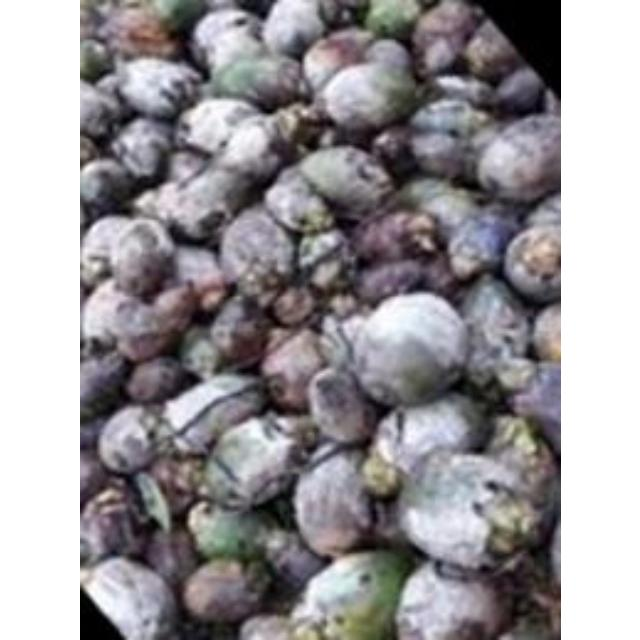damaged: (398, 448, 540, 570), (343, 290, 467, 408), (294, 546, 414, 640), (197, 415, 306, 511), (368, 394, 486, 480), (289, 446, 379, 556), (394, 560, 506, 640), (158, 374, 262, 456), (154, 162, 256, 242), (80, 557, 178, 639), (292, 144, 396, 220), (315, 59, 419, 134), (475, 115, 559, 205), (477, 417, 557, 503), (218, 208, 296, 290), (258, 326, 329, 412), (181, 559, 269, 625), (305, 368, 377, 448), (111, 56, 200, 120), (212, 112, 294, 180), (108, 216, 176, 296), (188, 503, 278, 561), (206, 55, 304, 108), (96, 404, 168, 476), (80, 485, 148, 561), (409, 1, 479, 74), (352, 208, 440, 266), (178, 98, 262, 156), (509, 364, 559, 460), (190, 7, 266, 69), (502, 223, 560, 304), (392, 176, 476, 230), (205, 294, 268, 366), (108, 116, 174, 184), (262, 168, 332, 232), (302, 29, 374, 89), (104, 6, 180, 60), (406, 96, 488, 146), (258, 0, 329, 56), (460, 15, 520, 81), (80, 215, 134, 285), (264, 532, 324, 592), (146, 452, 204, 514), (79, 350, 129, 418), (405, 129, 469, 181), (354, 258, 426, 304), (142, 528, 196, 588), (170, 244, 224, 300), (124, 355, 186, 403), (143, 282, 199, 334), (80, 158, 130, 215), (488, 65, 544, 115), (323, 314, 372, 371), (197, 454, 246, 510), (133, 470, 173, 538), (421, 74, 492, 112), (114, 322, 178, 364), (80, 78, 122, 140), (270, 102, 324, 150), (362, 0, 423, 40), (412, 253, 463, 299), (369, 126, 416, 174), (359, 448, 403, 498), (178, 328, 222, 377), (489, 354, 539, 396), (270, 286, 318, 328), (284, 596, 328, 640), (274, 414, 322, 454), (80, 446, 112, 504), (146, 1, 204, 33), (528, 302, 558, 362), (307, 252, 349, 294), (79, 410, 115, 456), (364, 38, 412, 72), (167, 148, 206, 186), (80, 36, 110, 78), (80, 4, 108, 46), (131, 188, 165, 222), (316, 0, 356, 28), (448, 250, 484, 280), (325, 289, 361, 319), (79, 132, 105, 172), (94, 74, 126, 106), (80, 252, 110, 286), (80, 566, 94, 590)
